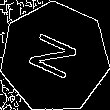N_SE: (24, 28, 85, 87)
